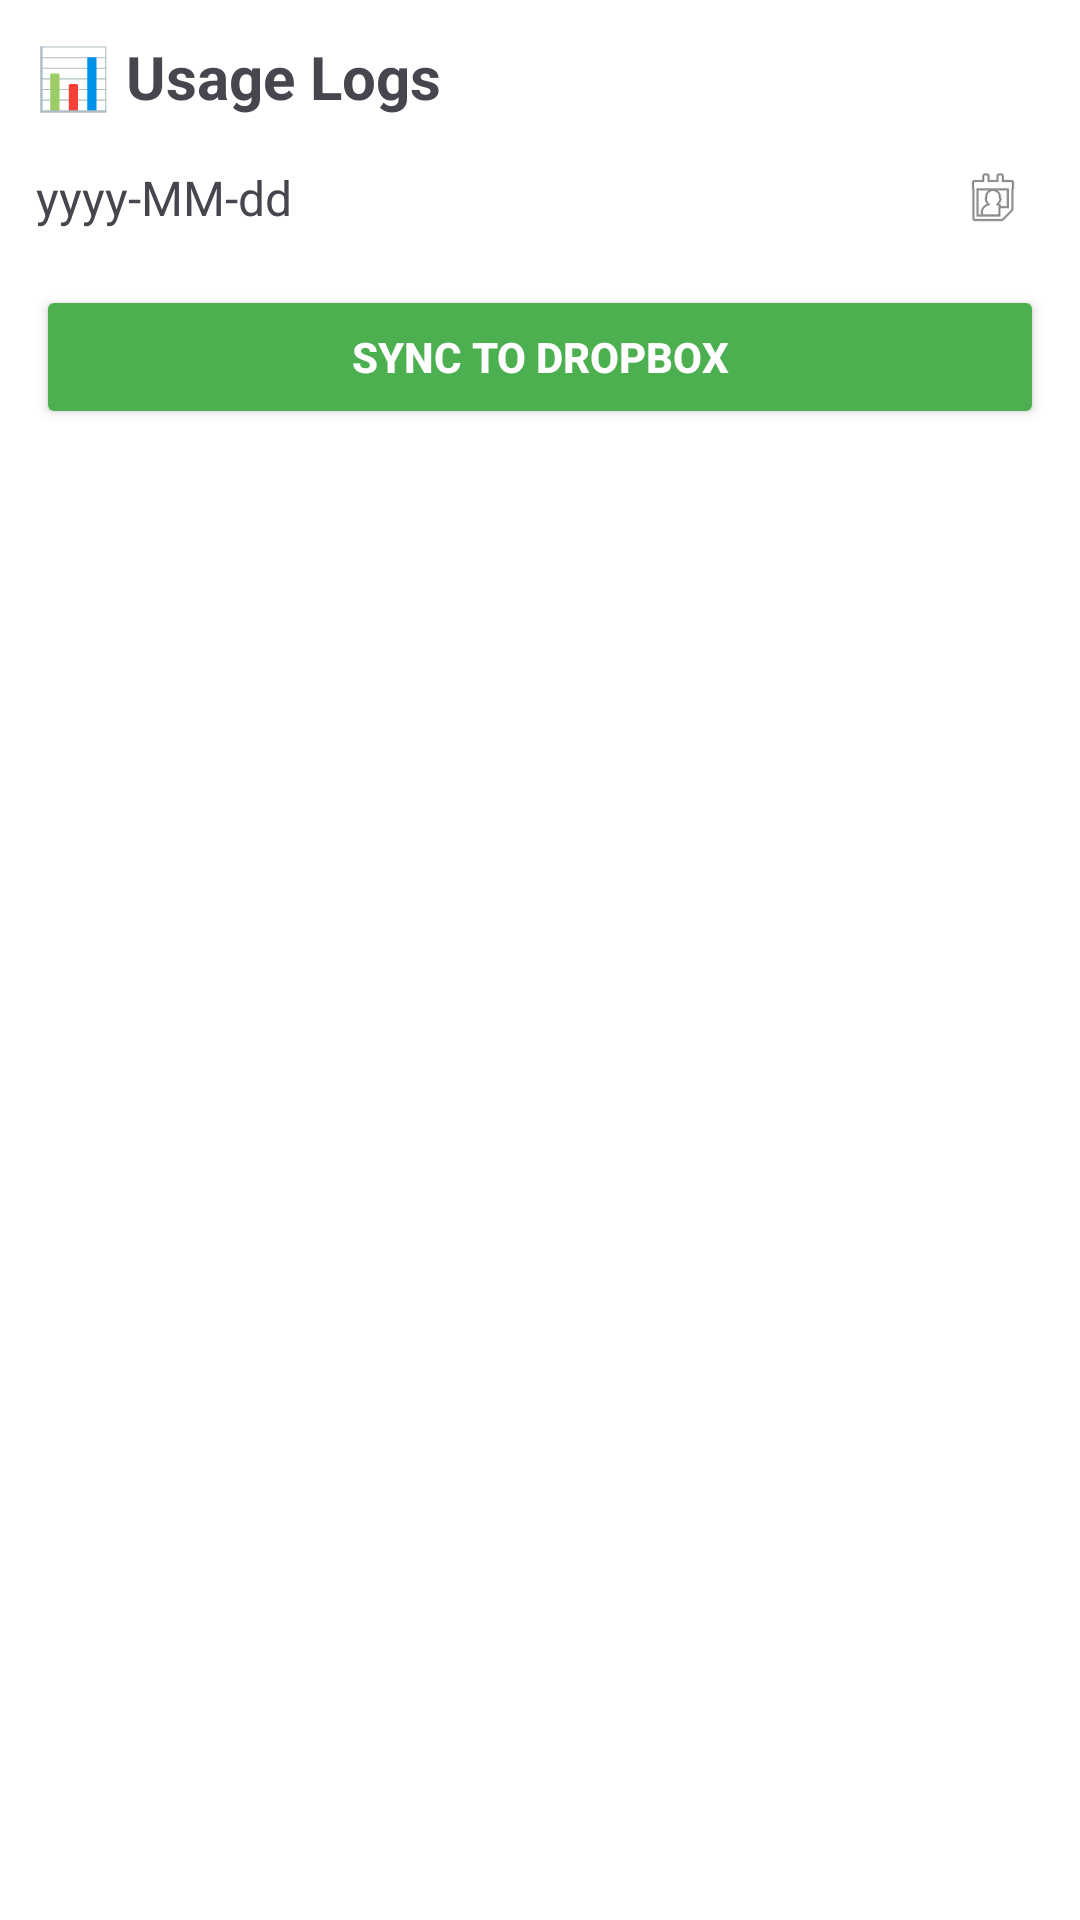

Named icons in this screenshot (1080px×1920px) and their bounding boxes, (x1, y1, x2, y2):
calendar: (972, 173, 1014, 222)
